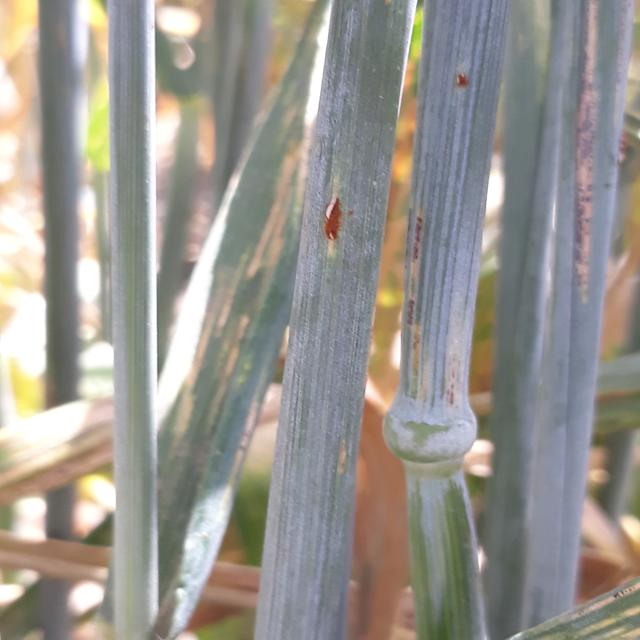black_stem_rust: (254, 0, 409, 578), (389, 19, 521, 544), (534, 3, 622, 409)
